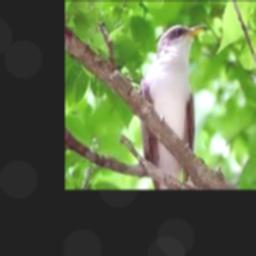Cuckoo: (138, 24, 207, 190)
